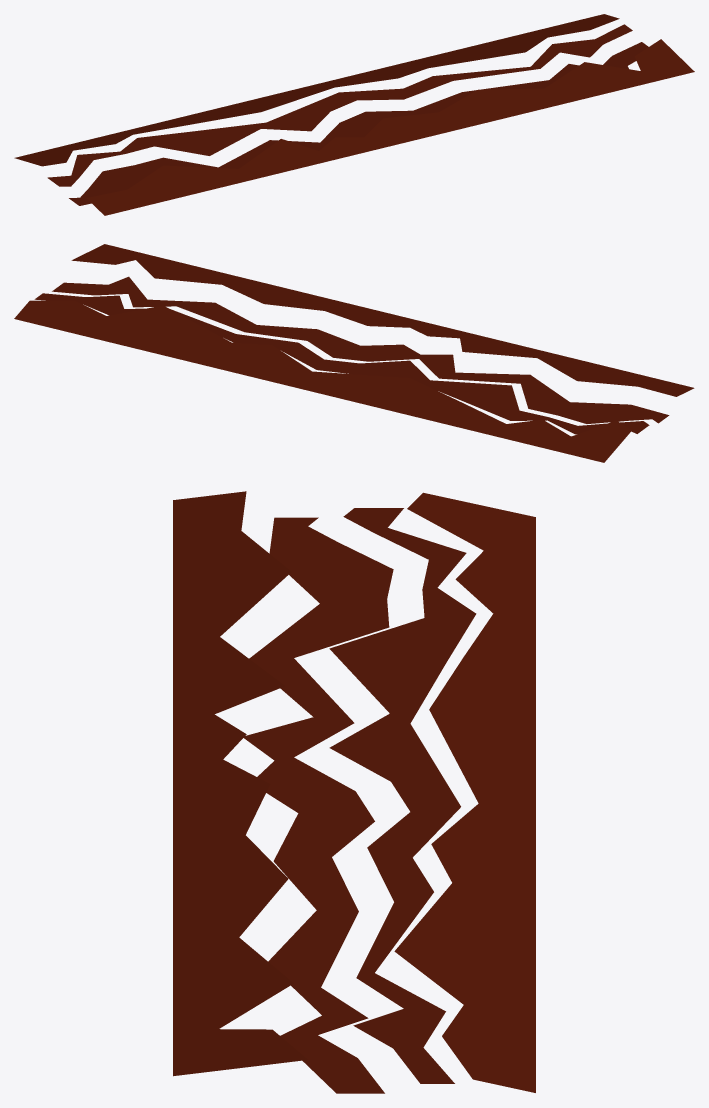
Rendered from BreeStreet.fbx.
The picture shows the model from 3 angles, top to bottom: view 1: azimuth 30°, elevation 25°; view 2: azimuth 150°, elevation 25°; view 3: azimuth 270°, elevation 25°; orthographic projection. The views are drawn at different scales.
Visible parts, largest first — view 1: T_Road_Basic 1; view 2: T_Road_Basic 1; view 3: T_Road_Basic 1.
Part boxes in pixels (<box>): T_Road_Basic 1: <box>14,14,694,215</box>; T_Road_Basic 1: <box>14,244,694,462</box>; T_Road_Basic 1: <box>173,491,535,1093</box>.
Bounding box in the file's own units: 478 × 13.07 × 127.
